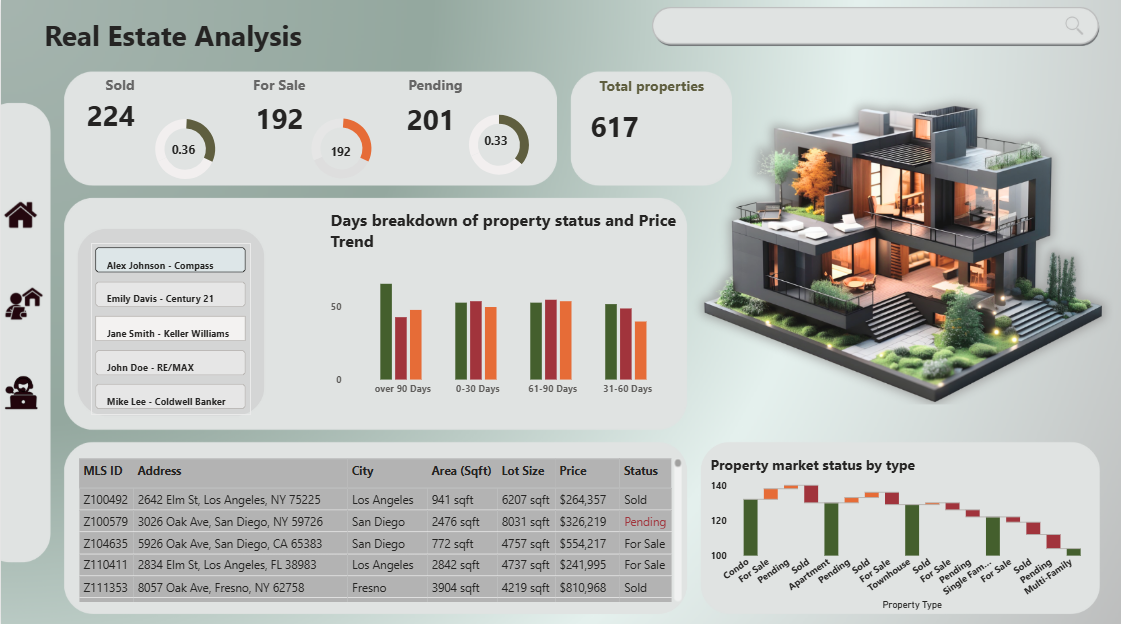

The dashboard page shown, as its layout file describes it:
{"tool":"powerbi","page":{"name":"Page 1","canvas":[1280,720],"ordinal":0},"visuals":[{"type":"textbox","box":[44.4,15.3,429.2,68.1],"z":0},{"type":"multiRowCard","fields":{"Values":["RealEstate_Dataset.Total_properties"]},"box":[668.1,119.4,113.9,56.9],"z":1000},{"type":"multiRowCard","fields":{"Values":["RealEstate_Dataset.Properties Sold"]},"box":[92.9,107.1,97.1,54.3],"z":2000},{"type":"multiRowCard","fields":{"Values":["RealEstate_Dataset.Properties For Sale"]},"box":[285.7,110,111.4,62.9],"z":3000},{"type":"multiRowCard","fields":{"Values":["RealEstate_Dataset.Properties Sending"]},"box":[458.6,111.4,78.6,52.9],"z":4000},{"type":"multiRowCard","fields":{"Values":["RealEstate_Dataset.%_Percentage Sold"]},"box":[190,158.6,58.6,35.7],"z":5000},{"type":"multiRowCard","fields":{"Values":["RealEstate_Dataset.Properties For Sale"]},"box":[371.4,161.4,58.6,44.3],"z":6000},{"type":"multiRowCard","fields":{"Values":["RealEstate_Dataset.Percentage Pending"]},"box":[547.1,148.6,58.6,35.7],"z":7000},{"type":"donutChart","fields":{"Category":["RealEstate_Dataset.Status"],"Y":["RealEstate_Dataset.Status"]},"box":[162.9,124.3,95.7,97.1],"z":8000},{"type":"donutChart","fields":{"Category":["RealEstate_Dataset.Status"],"Y":["RealEstate_Dataset.Status"]},"box":[341.4,118.6,95.7,107.1],"z":9000},{"type":"donutChart","fields":{"Category":["RealEstate_Dataset.Status"],"Y":["RealEstate_Dataset.Status"]},"box":[521.4,114.3,95.7,107.1],"z":10000},{"type":"textbox","box":[587.1,84.3,277.1,37.1],"z":11000},{"type":"textbox","box":[394.4,83.3,162.5,36.1],"z":12000},{"type":"textbox","box":[56.9,83.3,168.1,36.1],"z":13000},{"type":"textbox","box":[225,83.3,169.4,36.1],"z":14000},{"type":"lineClusteredColumnComboChart","title":"Days breakdown of property status and Price Trend","fields":{"Category":["RealEstate_Dataset.Days_on_market_category"],"Y":["RealEstate_Dataset.Properties Sold","RealEstate_Dataset.Properties Sending","RealEstate_Dataset.Properties For Sale"]},"box":[371.4,240,410,224.3],"z":15000},{"type":"tableEx","fields":{"Values":["RealEstate_Dataset.MLS ID","RealEstate_Dataset.Address","RealEstate_Dataset.City","RealEstate_Dataset.Area (Sqft)","RealEstate_Dataset.Lot Size","RealEstate_Dataset.Price","RealEstate_Dataset.Status"]},"box":[82.9,521.4,700,172.9],"z":16000},{"type":"waterfallChart","title":"Property market status by type","fields":{"Category":["RealEstate_Dataset.Property Type"],"Breakdown":["RealEstate_Dataset.Status"],"Y":["RealEstate_Dataset.Status"]},"box":[805.7,521.4,442.9,182.9],"z":17000},{"type":"advancedSlicerVisual","fields":{"Values":["RealEstate_Dataset.Listing Agent"]},"box":[102.9,280,182.9,197.1],"z":18000}]}

Visuals, with their boxes in screenshot pixels (x1, y1, x2, y2), scaled from the page's 1280x720 canvas onto the 1121x624 screenshot:
textbox: BBox(39, 13, 415, 72)
multiRowCard - RealEstate_Dataset.Total_properties: BBox(585, 103, 685, 153)
multiRowCard - RealEstate_Dataset.Properties Sold: BBox(81, 93, 166, 140)
multiRowCard - RealEstate_Dataset.Properties For Sale: BBox(250, 95, 348, 150)
multiRowCard - RealEstate_Dataset.Properties Sending: BBox(402, 97, 470, 142)
multiRowCard - RealEstate_Dataset.%_Percentage Sold: BBox(166, 137, 218, 168)
multiRowCard - RealEstate_Dataset.Properties For Sale: BBox(325, 140, 377, 178)
multiRowCard - RealEstate_Dataset.Percentage Pending: BBox(479, 129, 530, 160)
donutChart - RealEstate_Dataset.Status x RealEstate_Dataset.Status: BBox(143, 108, 226, 192)
donutChart - RealEstate_Dataset.Status x RealEstate_Dataset.Status: BBox(299, 103, 383, 196)
donutChart - RealEstate_Dataset.Status x RealEstate_Dataset.Status: BBox(457, 99, 540, 192)
textbox: BBox(514, 73, 757, 105)
textbox: BBox(345, 72, 488, 103)
textbox: BBox(50, 72, 197, 103)
textbox: BBox(197, 72, 345, 103)
"Days breakdown of property status and Price Trend" lineClusteredColumnComboChart: BBox(325, 208, 684, 402)
tableEx - RealEstate_Dataset.MLS ID x RealEstate_Dataset.Address: BBox(73, 452, 686, 602)
"Property market status by type" waterfallChart: BBox(706, 452, 1094, 610)
advancedSlicerVisual - RealEstate_Dataset.Listing Agent: BBox(90, 243, 250, 413)
